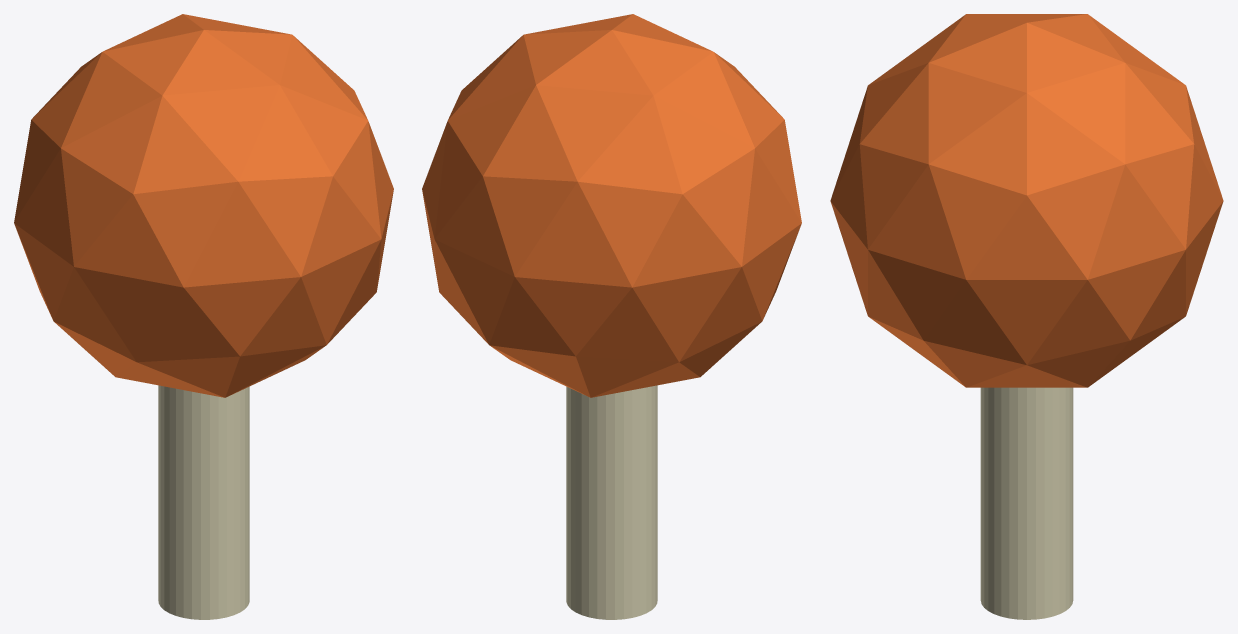
The model's file is birchtree.glb.
3 views of the same model, side by side, from view 1: azimuth 30°, elevation 25°; view 2: azimuth 150°, elevation 25°; view 3: azimuth 270°, elevation 25° (orthographic).
Visible parts, largest first — view 1: Birch_Tree; view 2: Birch_Tree; view 3: Birch_Tree.
Boxes of the visible parts, x1,y1,x2,y2 form: Birch_Tree: (14, 14, 393, 619); Birch_Tree: (422, 14, 801, 619); Birch_Tree: (830, 14, 1223, 619).
Bounding box in the file's own units: 1.54 × 2.62 × 1.62.
